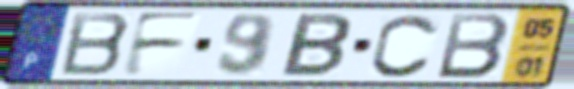9: (214, 11, 274, 79)
B: (433, 11, 513, 81), (277, 11, 355, 80), (57, 10, 134, 78)
C: (368, 11, 443, 80)
F: (117, 10, 205, 79)
